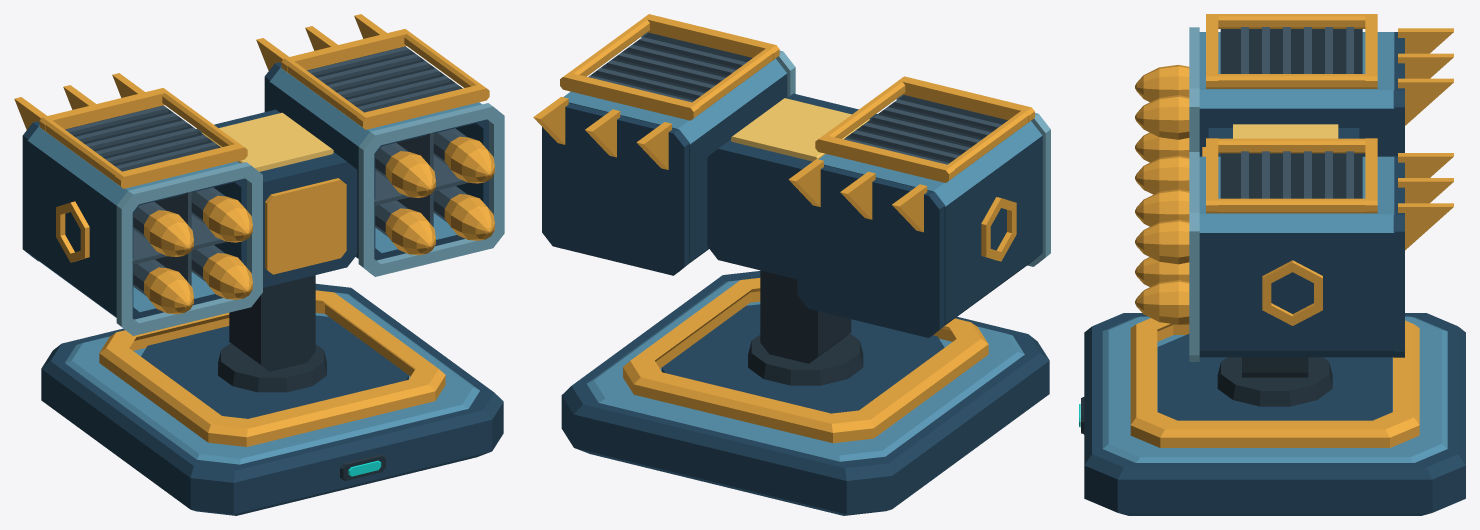
Rendered from Missile3.obj.
3 views of the same model, side by side, from view 1: azimuth 30°, elevation 25°; view 2: azimuth 150°, elevation 25°; view 3: azimuth 270°, elevation 25° (orthographic). The views are drawn at different scales.
Parts seen in each view (by area): view 1: SquareFoundation, GoldPlatformRing, LauncherHousing_L, InnerDeck, UpperDeck, FrontRim_R, FrontRim_L, CentralGoldFace, Support, CentralJoint, LauncherHousing_R, CentralGoldRoof (+42 smaller); view 2: SquareFoundation, RearArmor_R, RearArmor_L, GoldPlatformRing, InnerDeck, CentralJoint, UpperDeck, LauncherHousing_L, Support, LauncherHousing_R, CentralGoldRoof, TopArmor_R (+30 smaller); view 3: SquareFoundation, LauncherHousing_R, GoldPlatformRing, UpperDeck, InnerDeck, TopArmor_R, TopArmor_L, LauncherHousing_L, TopVentBed_R, TopVentBed_L, Bearing, RoofSideRail0.405_R (+29 smaller).
Boxes of the visible parts, x1,y1,x2,y2 form: SquareFoundation: (41, 283, 503, 515); GoldPlatformRing: (99, 290, 445, 446); LauncherHousing_L: (27, 140, 246, 319); InnerDeck: (141, 315, 408, 418); UpperDeck: (65, 292, 479, 464); FrontRim_R: (358, 103, 504, 276); FrontRim_L: (116, 162, 262, 335); CentralGoldFace: (265, 178, 346, 274); Support: (229, 275, 315, 371); CentralJoint: (196, 109, 357, 287); LauncherHousing_R: (269, 81, 488, 260); CentralGoldRoof: (202, 112, 333, 171); SquareFoundation: (561, 271, 1049, 515); RearArmor_R: (542, 103, 689, 275); RearArmor_L: (797, 165, 945, 337); GoldPlatformRing: (623, 278, 988, 443); InnerDeck: (661, 304, 944, 413); CentralJoint: (707, 93, 877, 279); UpperDeck: (587, 280, 1024, 461); LauncherHousing_L: (824, 136, 1042, 325); Support: (760, 270, 851, 363); LauncherHousing_R: (569, 73, 787, 262); CentralGoldRoof: (731, 98, 869, 161); TopArmor_R: (563, 58, 786, 144); SquareFoundation: (1084, 313, 1465, 515); LauncherHousing_R: (1199, 233, 1394, 357); GoldPlatformRing: (1130, 318, 1419, 447); UpperDeck: (1102, 316, 1447, 462); InnerDeck: (1157, 334, 1392, 420); TopArmor_R: (1199, 156, 1394, 232); TopArmor_L: (1199, 32, 1394, 108); LauncherHousing_L: (1199, 108, 1394, 156); TopVentBed_R: (1220, 153, 1362, 198); TopVentBed_L: (1220, 29, 1362, 73); Bearing: (1217, 357, 1332, 406); RoofSideRail0.405_R: (1212, 198, 1369, 213).
Size of the model in its own units: 2.69 by 2.1 by 2.21.
